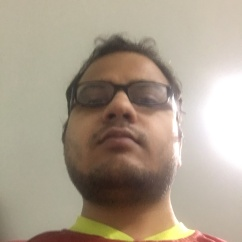glasses: (66, 81, 175, 108)
